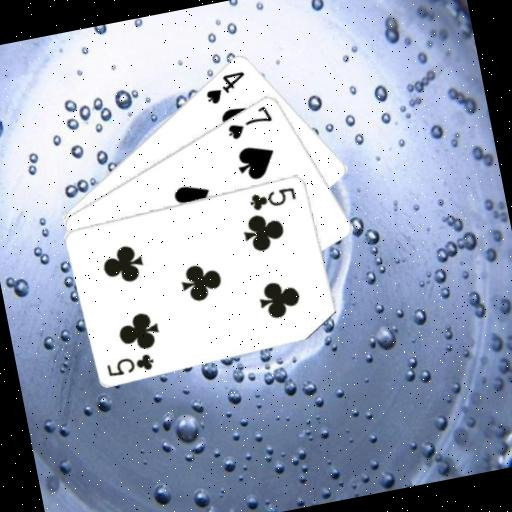4S: (200, 67, 251, 108)
5C: (245, 183, 299, 214), (103, 349, 158, 379)
7S: (221, 101, 276, 142)
